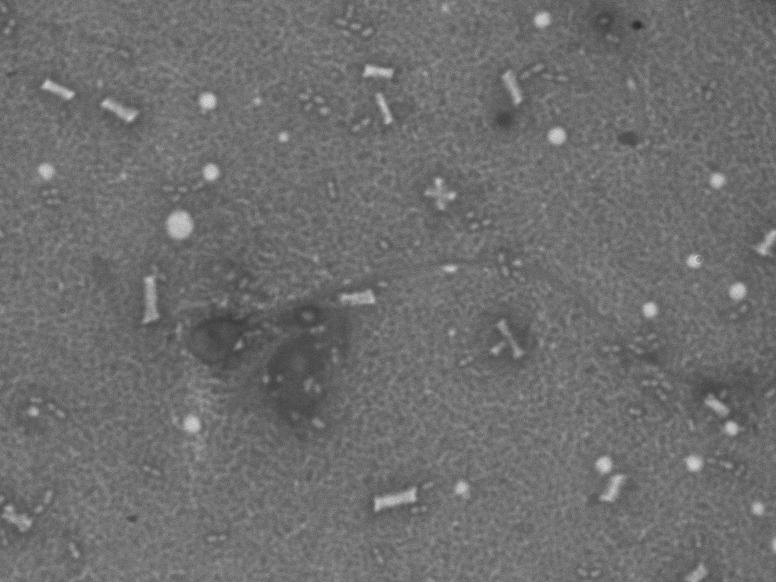Abnormal: (147, 223, 690, 435)
